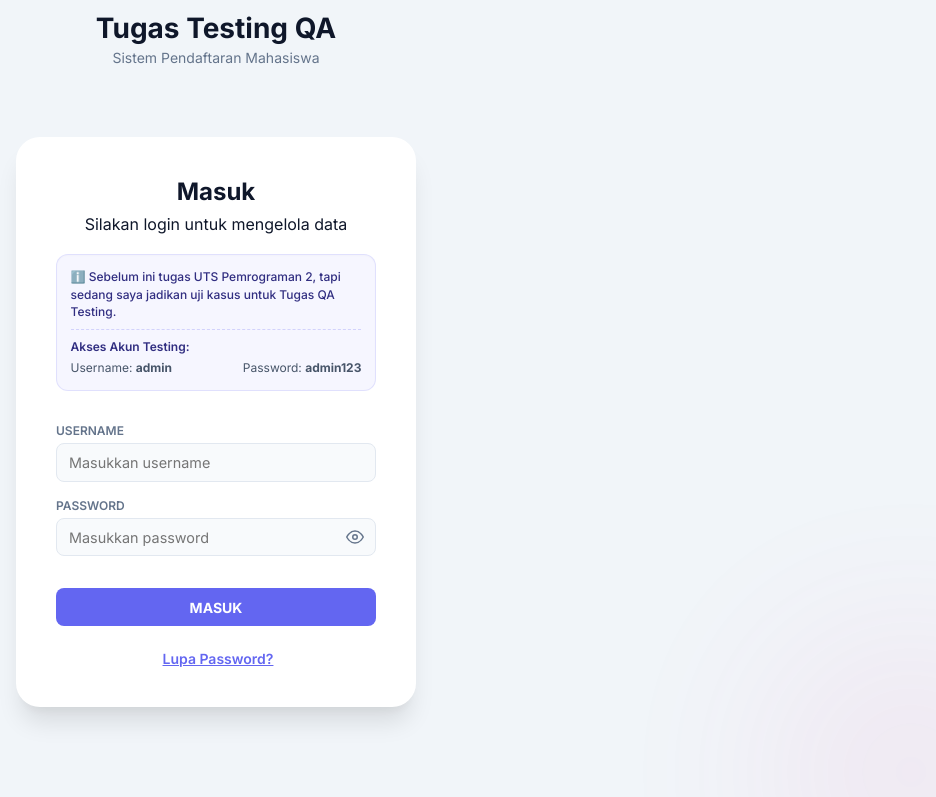
it: App Component › Authentication - View Switching › should redirect to forgot password page
The image size is (936, 797).
Click the text "Lupa Password?": point(218, 659) [162,650,273,667]
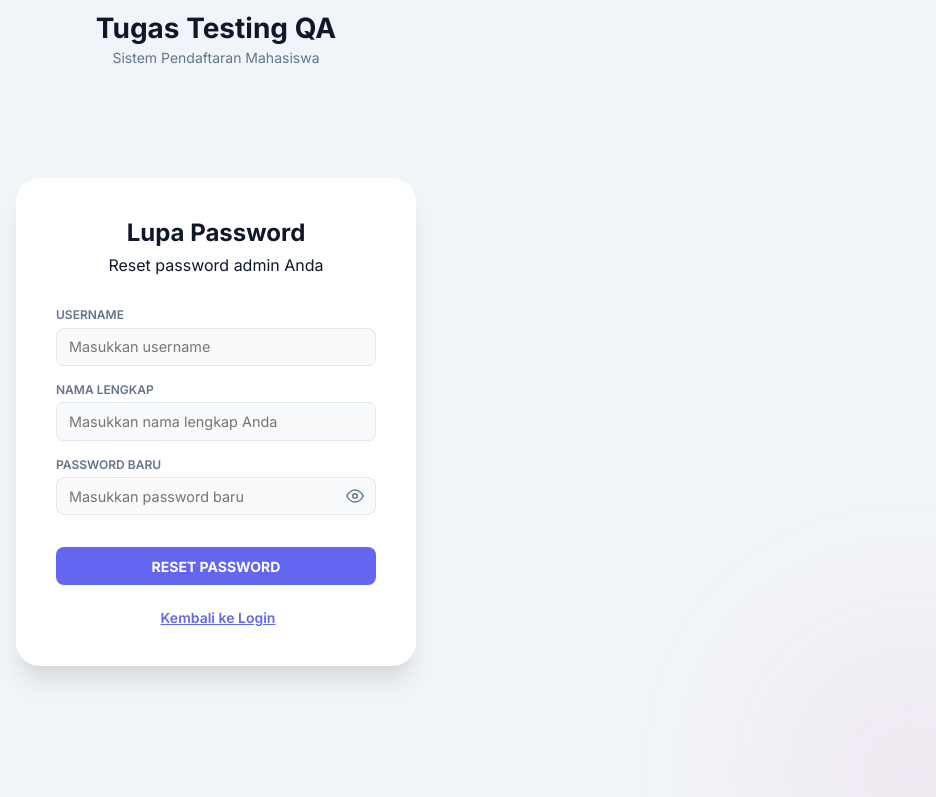
Now the text "Reset password admin Anda" is shown, box [108,255,324,275]
